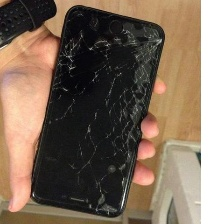phone: (26, 3, 168, 221)
